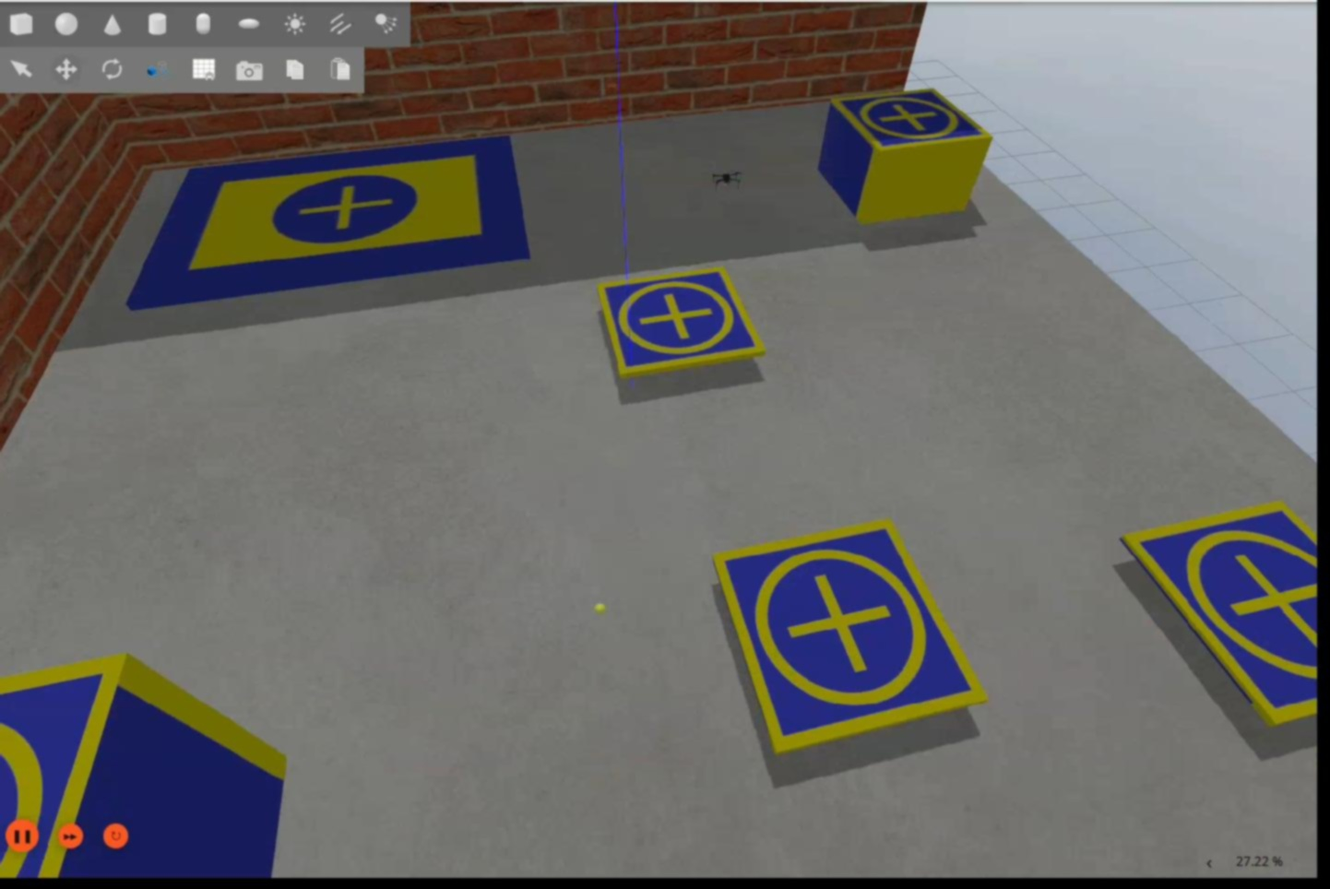large_base: (128, 138, 535, 314)
small_base: (713, 516, 993, 753), (1117, 499, 1319, 729), (1, 652, 132, 878), (595, 266, 766, 382), (830, 87, 997, 153)
